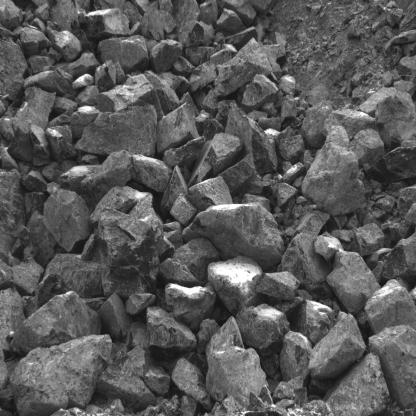stone: (10, 335, 111, 416), (186, 202, 285, 261), (205, 316, 269, 402), (303, 124, 366, 210), (12, 292, 100, 353), (98, 211, 159, 298), (74, 105, 158, 157), (327, 353, 393, 416), (368, 325, 416, 410), (359, 85, 416, 150), (214, 39, 271, 102), (327, 250, 381, 316), (311, 314, 366, 378), (98, 74, 165, 121), (43, 188, 92, 252), (158, 238, 221, 287), (186, 134, 242, 189), (0, 164, 28, 273), (208, 255, 262, 311), (366, 277, 416, 334), (236, 303, 290, 355), (82, 151, 135, 203), (147, 307, 198, 360), (90, 187, 154, 229), (45, 254, 100, 300), (166, 282, 215, 331), (156, 103, 200, 154), (172, 358, 214, 411), (98, 34, 150, 75), (10, 87, 56, 132), (366, 146, 416, 184), (0, 27, 24, 106), (380, 231, 416, 281), (301, 100, 335, 150), (280, 332, 312, 385), (237, 74, 279, 114), (293, 302, 333, 343), (218, 153, 256, 196), (187, 177, 233, 212), (160, 136, 205, 171), (131, 154, 172, 192), (46, 110, 76, 161), (253, 271, 301, 302), (160, 165, 187, 220), (101, 293, 132, 340), (46, 27, 82, 62), (146, 40, 183, 74), (351, 128, 384, 166), (13, 258, 45, 296), (23, 70, 71, 95), (142, 8, 176, 42), (352, 223, 385, 256), (272, 375, 306, 404), (169, 194, 198, 228), (188, 61, 216, 94), (294, 211, 329, 237), (278, 134, 305, 165), (124, 293, 156, 318), (178, 21, 204, 49), (277, 183, 299, 208)
